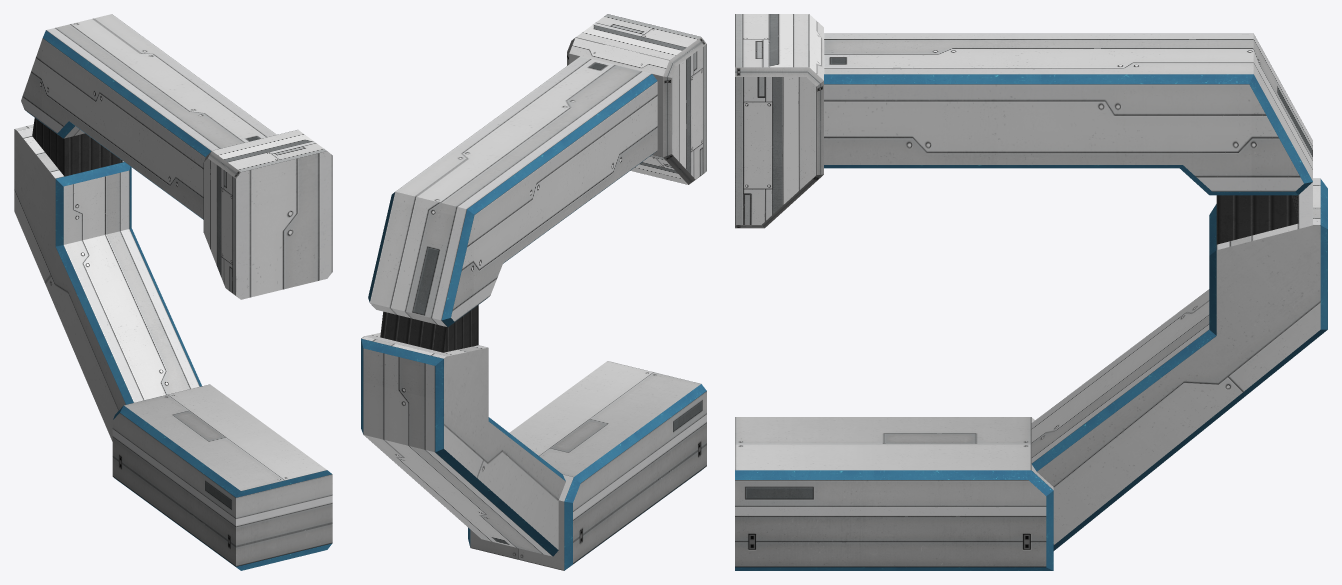
Rendered from Ext_Arch_02.FBX.
3 views of the same model, side by side, from view 1: azimuth 30°, elevation 25°; view 2: azimuth 150°, elevation 25°; view 3: azimuth 270°, elevation 25° (orthographic). The views are drawn at different scales.
Parts seen in each view (by area): view 1: Ext_Arch_02; view 2: Ext_Arch_02; view 3: Ext_Arch_02.
Boxes of the visible parts, box(x1,y1,x2,y2) form: Ext_Arch_02: box(14, 14, 332, 570); Ext_Arch_02: box(361, 14, 706, 570); Ext_Arch_02: box(735, 14, 1327, 570).
Size of the model in its own units: 190 by 750 by 800.
